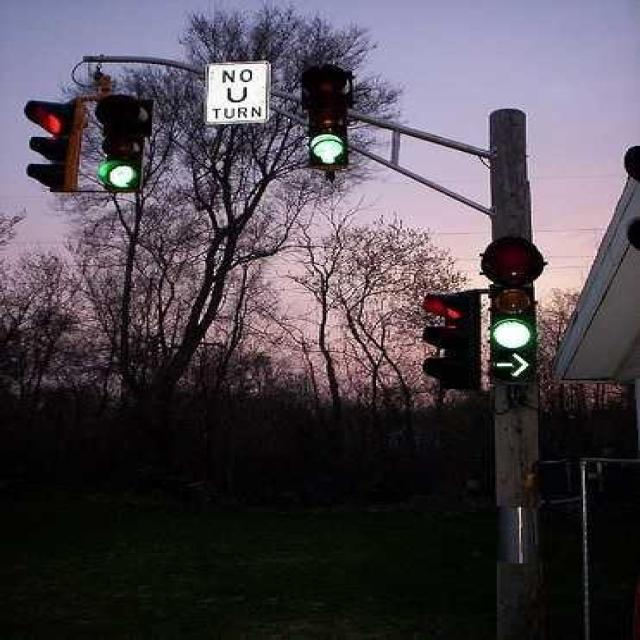Traffic Light -Green-: (484, 240, 547, 389), (300, 58, 358, 171), (96, 92, 152, 202)
Traffic Light -Red-: (19, 85, 81, 195), (418, 288, 477, 390)
